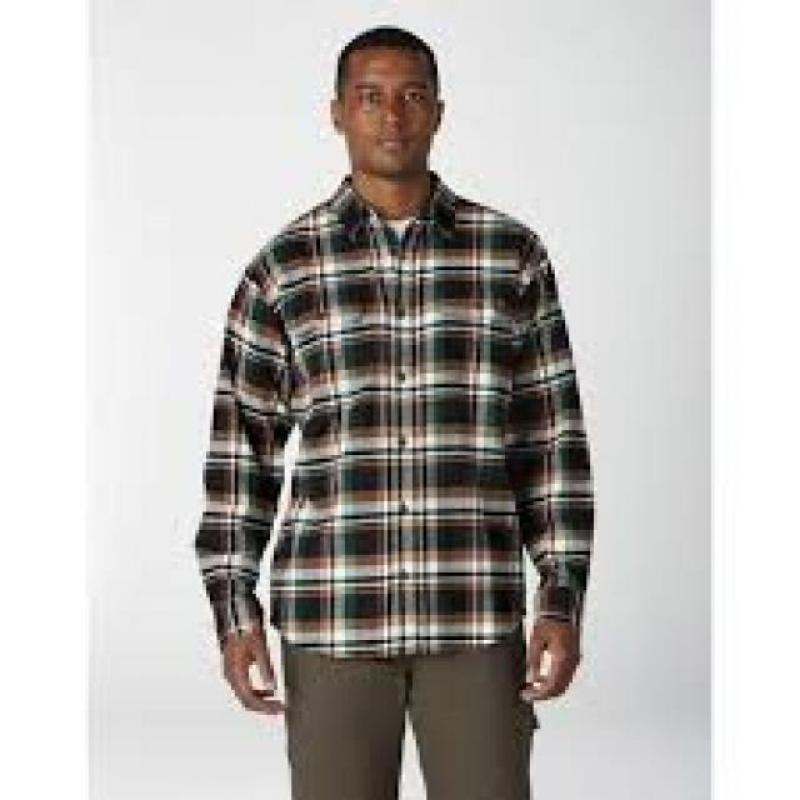long sleeve shirt: (190, 176, 602, 653)
trousers: (283, 637, 538, 800)
